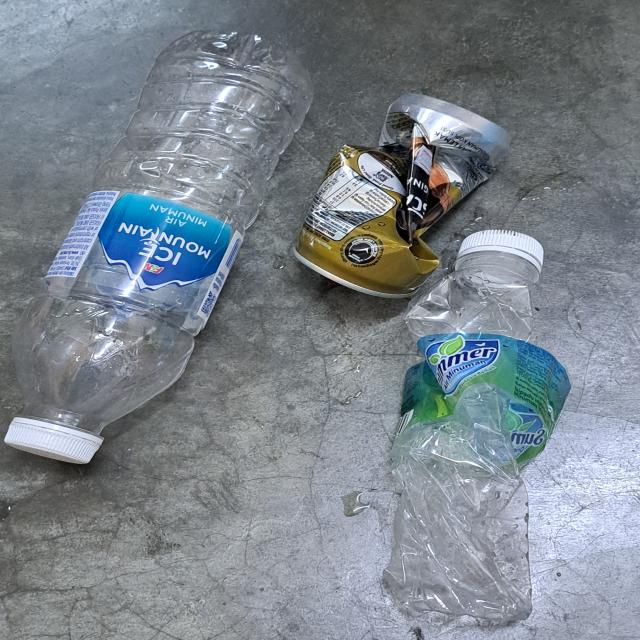can: (296, 86, 505, 308)
plastic bottle: (10, 27, 305, 439), (397, 272, 557, 625)
plastic bottle cap: (0, 410, 106, 471), (457, 228, 546, 284)
